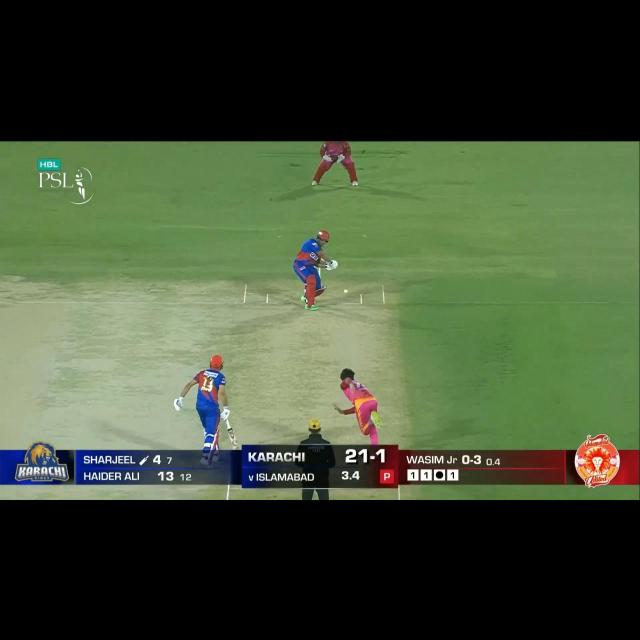bat: (227, 430, 241, 449), (320, 258, 328, 266)
